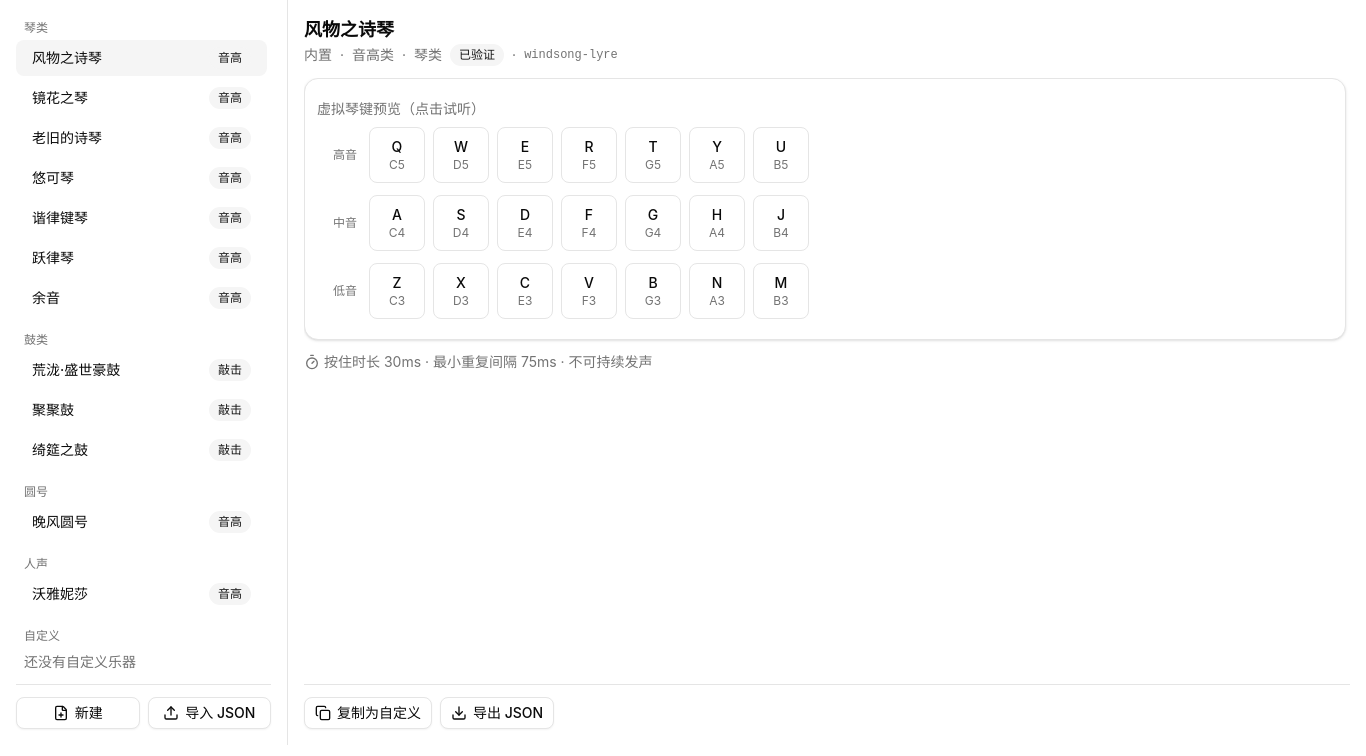
it: InstrumentsPage 列表与详情 › 复制为自定义后保存并进入编辑器
Click the button "复制为自定义". click: (368, 713)
box: [304,697,432,729]
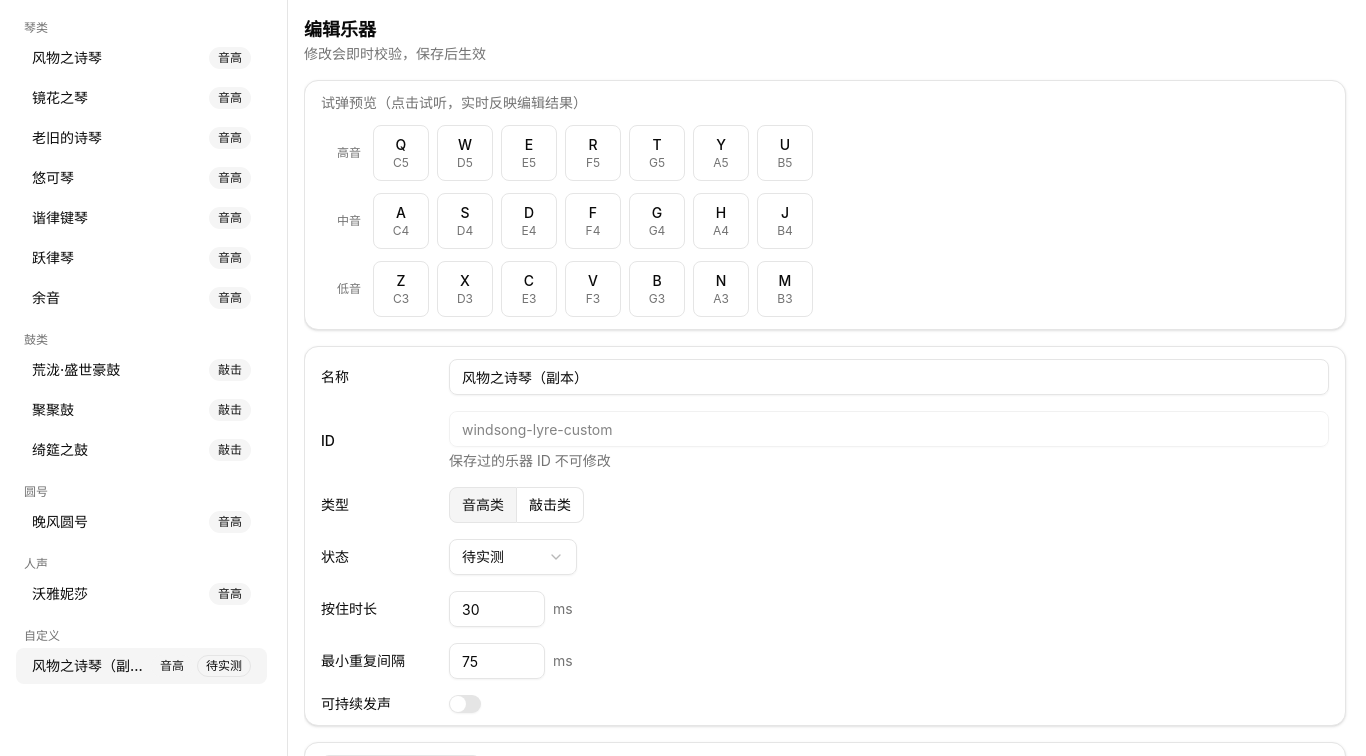
Expected: the text "风物之诗琴（副本）" is shown, [32,656,143,676]
Expected: the field labelled "名称" holds "风物之诗琴（副本）", [449,359,1329,395]
Expected: the field labelled "ID" holds "windsong-lyre-custom", [449,411,1329,447]
